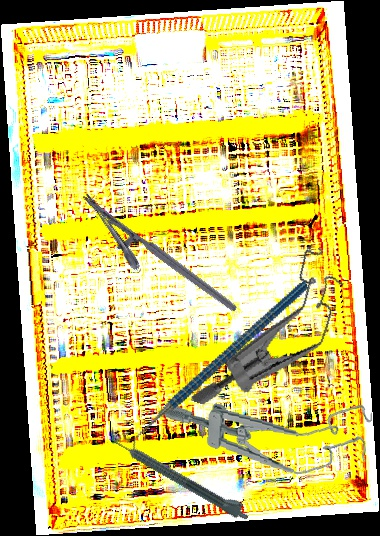Chopper: (94, 281, 343, 459)
Handpiece: (110, 430, 254, 524)
Needle Holder: (65, 191, 239, 334)
Speculum: (189, 224, 354, 435), (161, 388, 373, 480)
